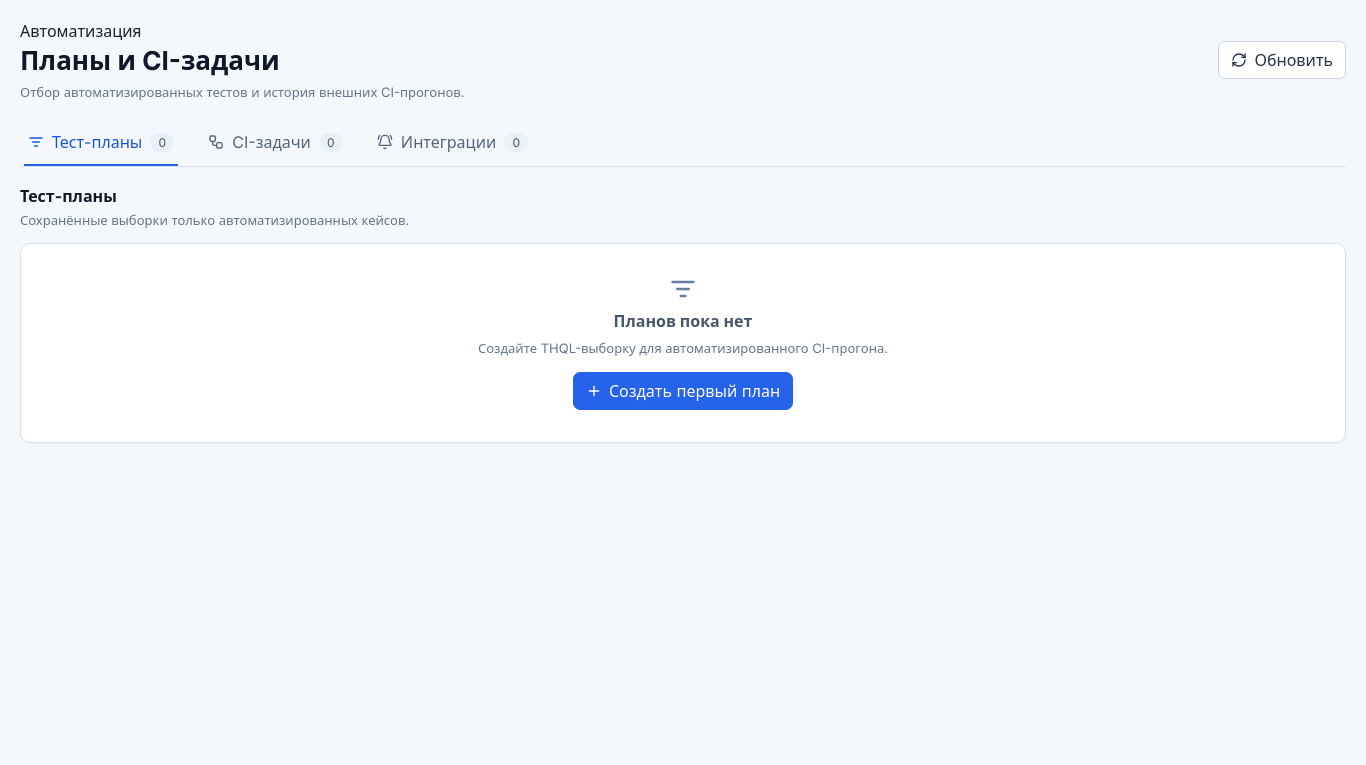
Test: explains why a notification cannot be saved without events
Click the tab "Интеграции 0".
click(452, 142)  # box [373,119,532,166]
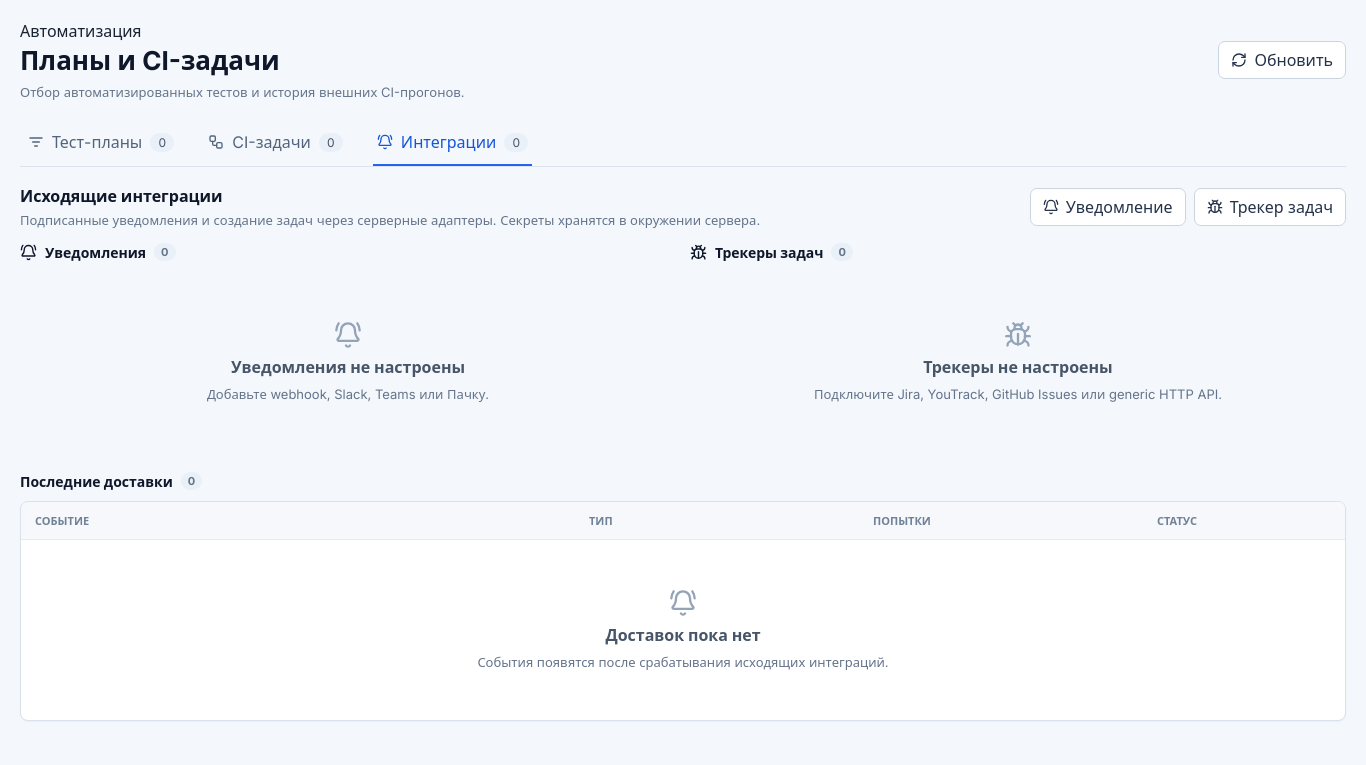
Click the button "Уведомление".
click(1108, 207)  # box [1030,188,1186,226]
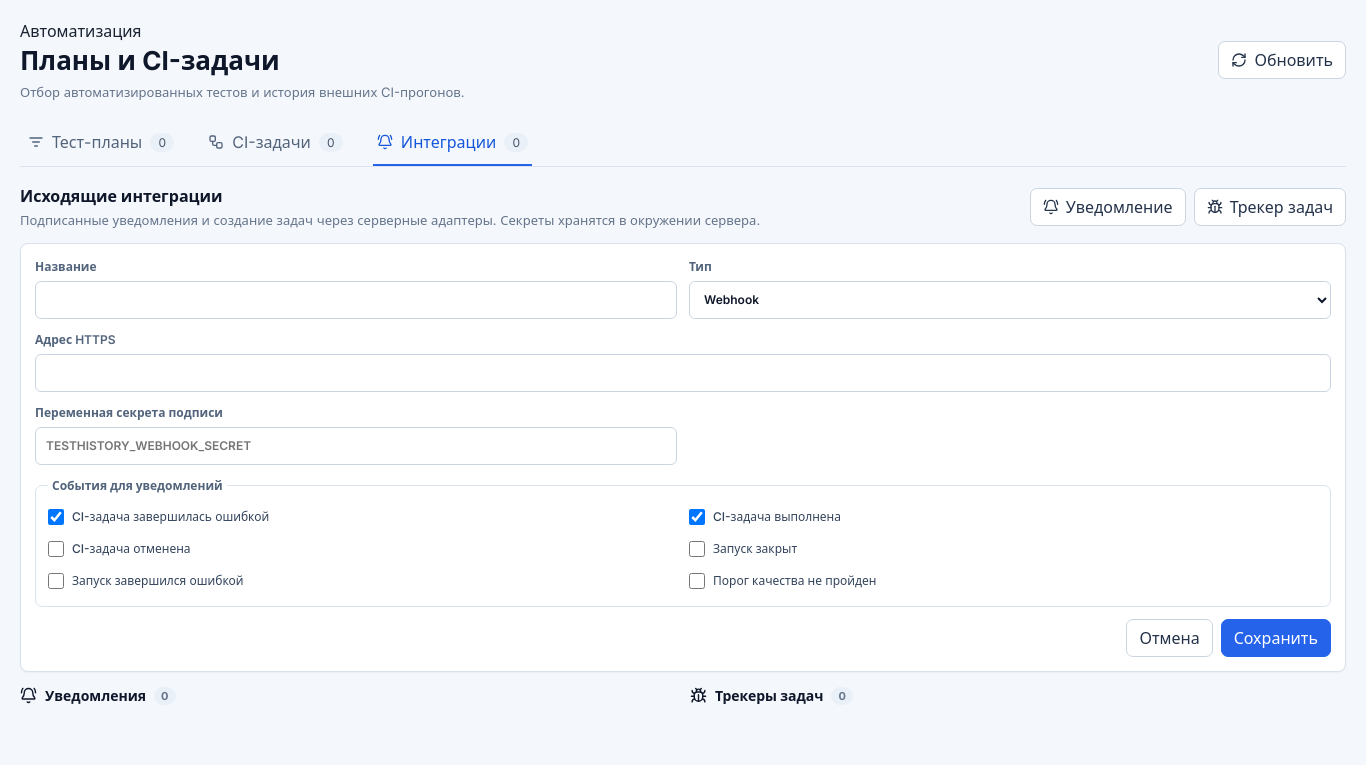
Click the checkbox labelled "CI-задача завершилась ошибкой".
click(56, 517)  # box [48,509,64,525]
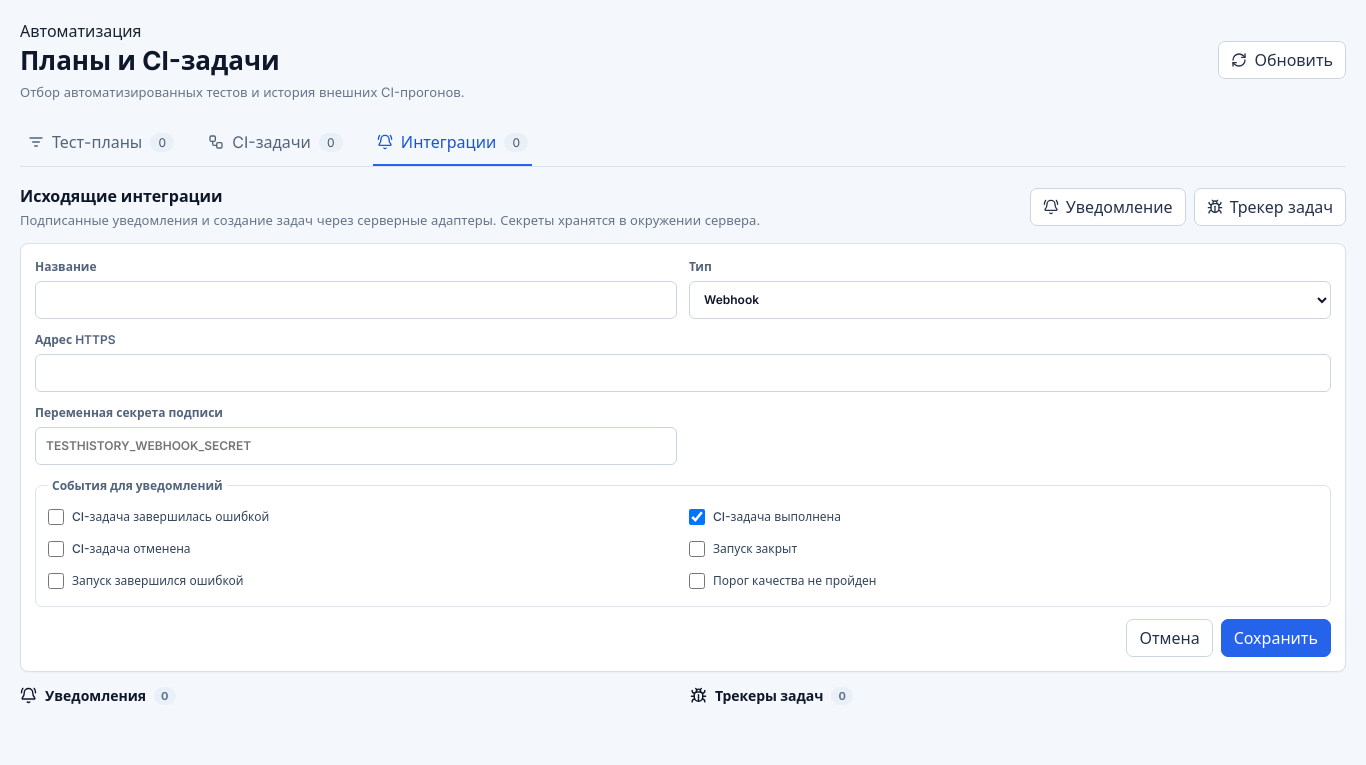
Click the checkbox labelled "CI-задача выполнена".
click(697, 517)  # box [689,509,705,525]
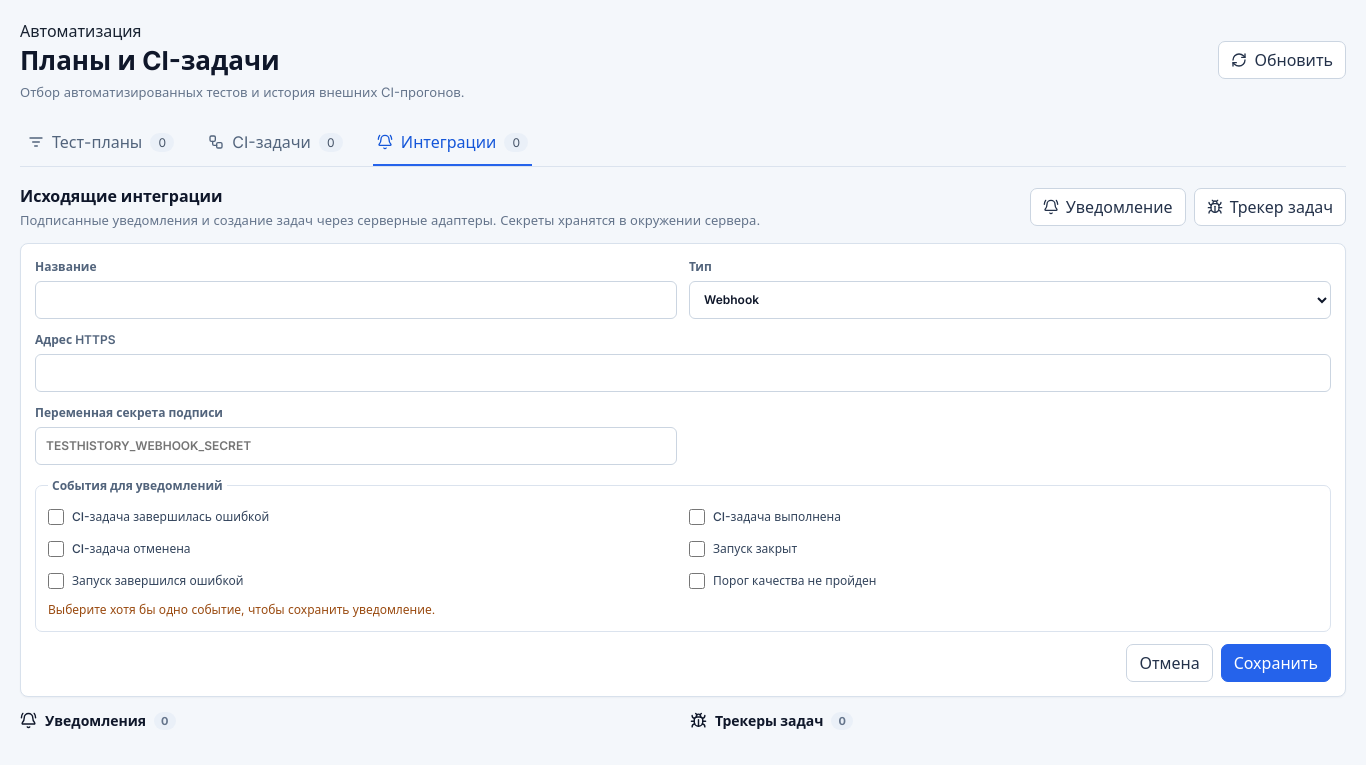
expect the button "Сохранить" is disabled: met, box [1221,644,1331,682]
expect the message "Выберите хотя бы одно событие, чтобы сохранить уведомление." is shown: met, box [48,602,435,617]
Submit the form with class "automation-form", box [20,243,1346,697]
Click the checkbox labelled "CI-задача завершилась ошибкой".
click(56, 517)  # box [48,509,64,525]
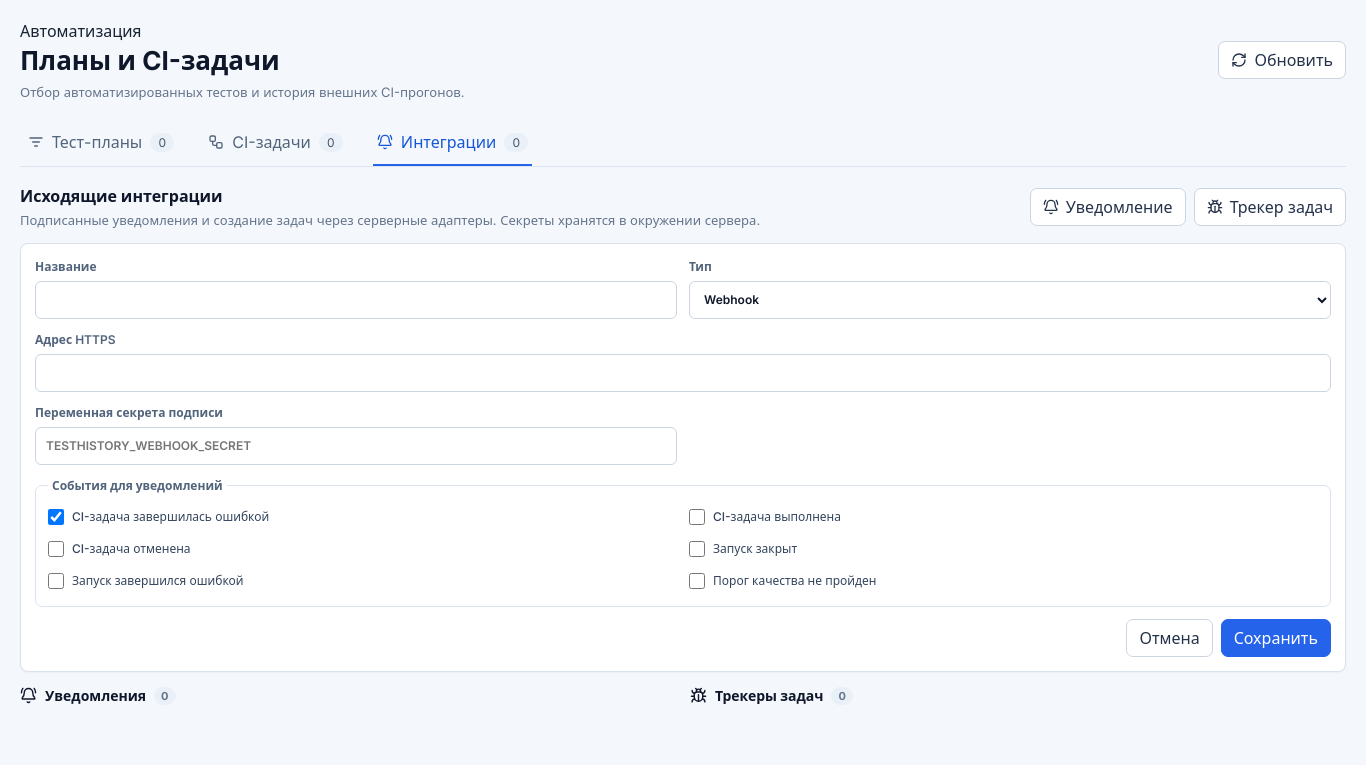
expect the button "Сохранить" is enabled: met, box [1221,619,1331,657]
expect the message "Выберите хотя бы одно событие, чтобы сохранить уведомление." is gone: met
